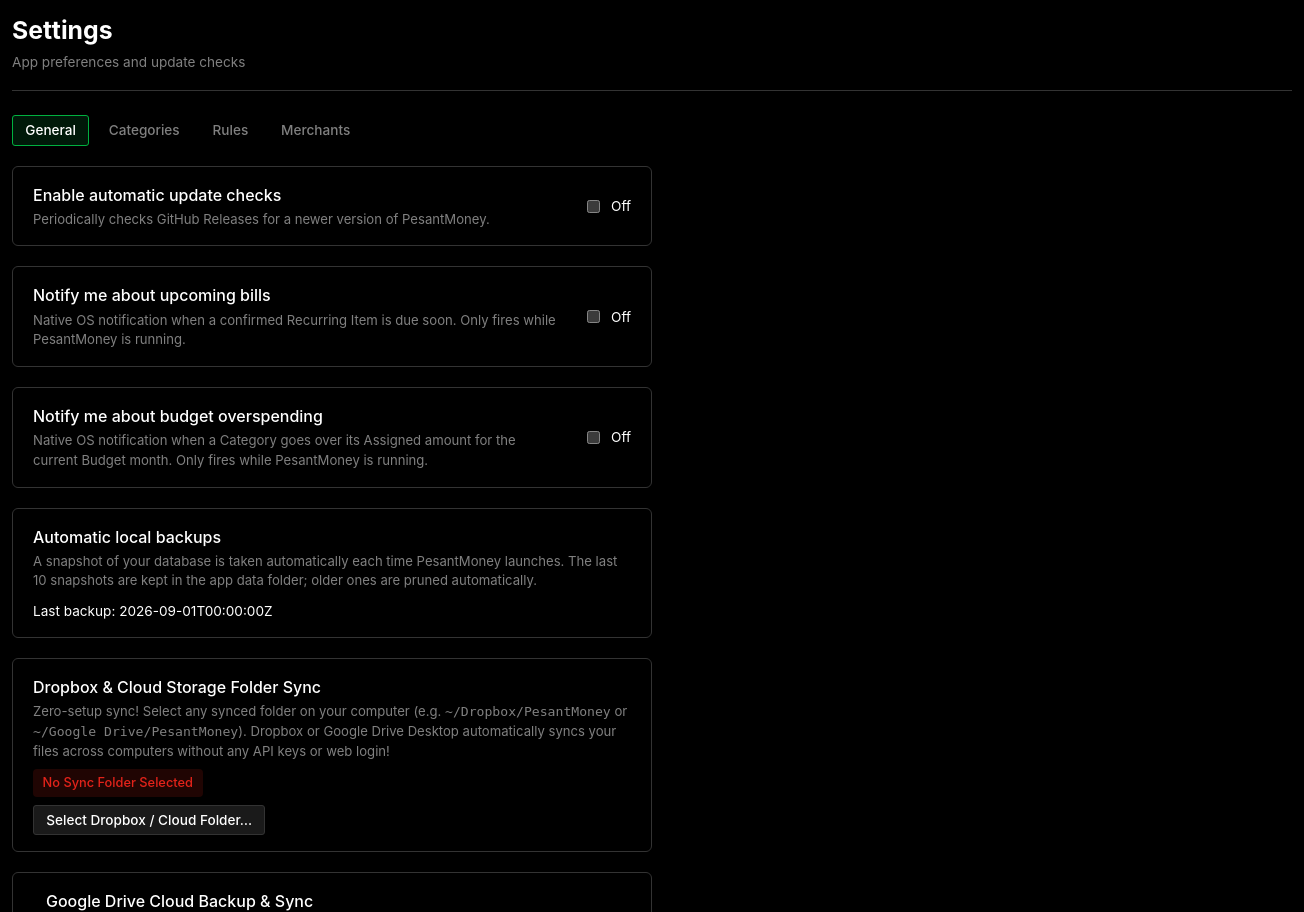
it: SettingsScreen tab strip › switches to the Merchants tab and renders MerchantsScreen content
Check: the text "Enable automatic update checks" is shown, box [33,185,281,205]
Click the tab "Merchants". click: (316, 130)
box: [268,115,364,146]
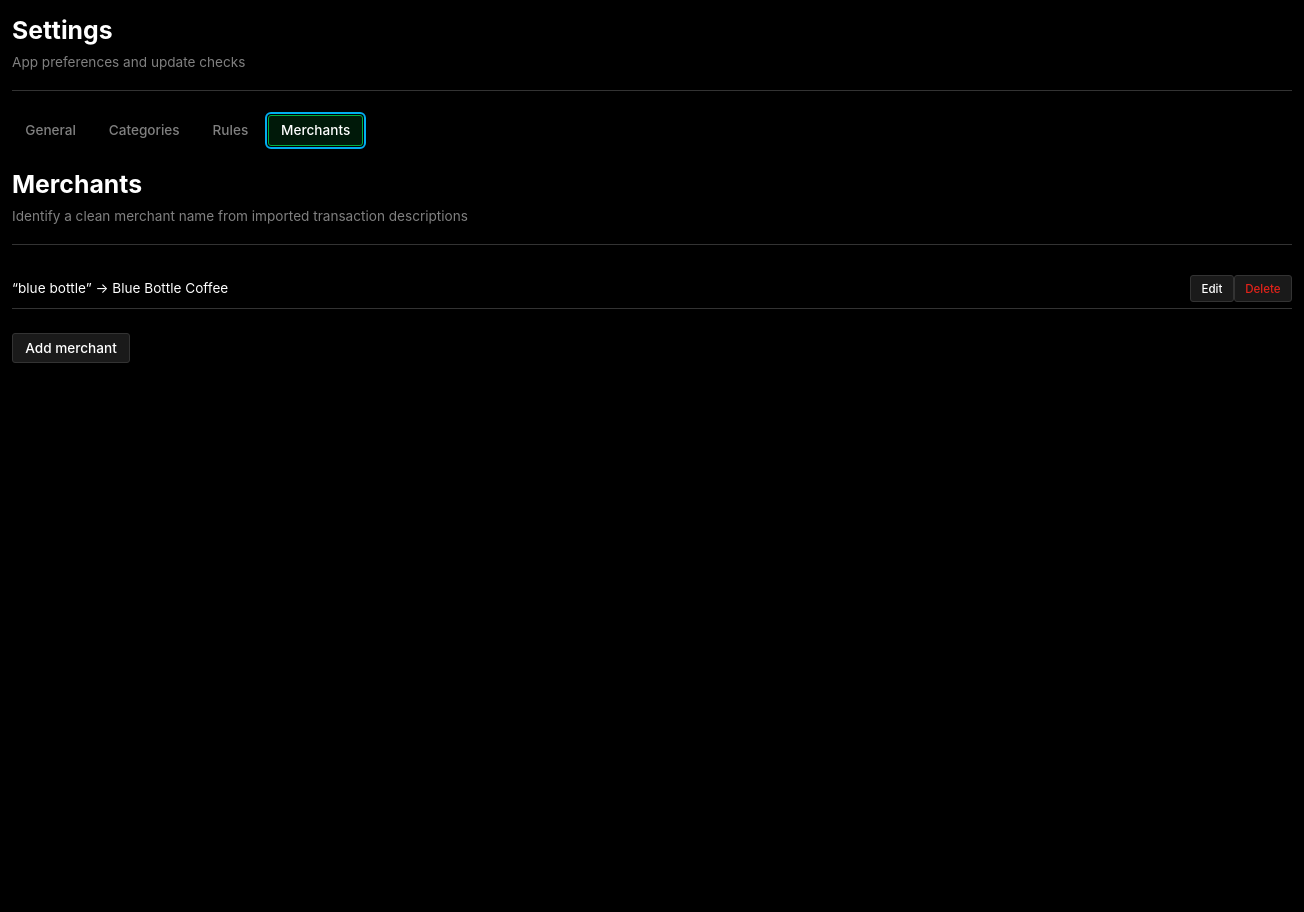
Check: the text "“blue bottle” → Blue Bottle Coffee" is shown, box [12,280,228,296]
